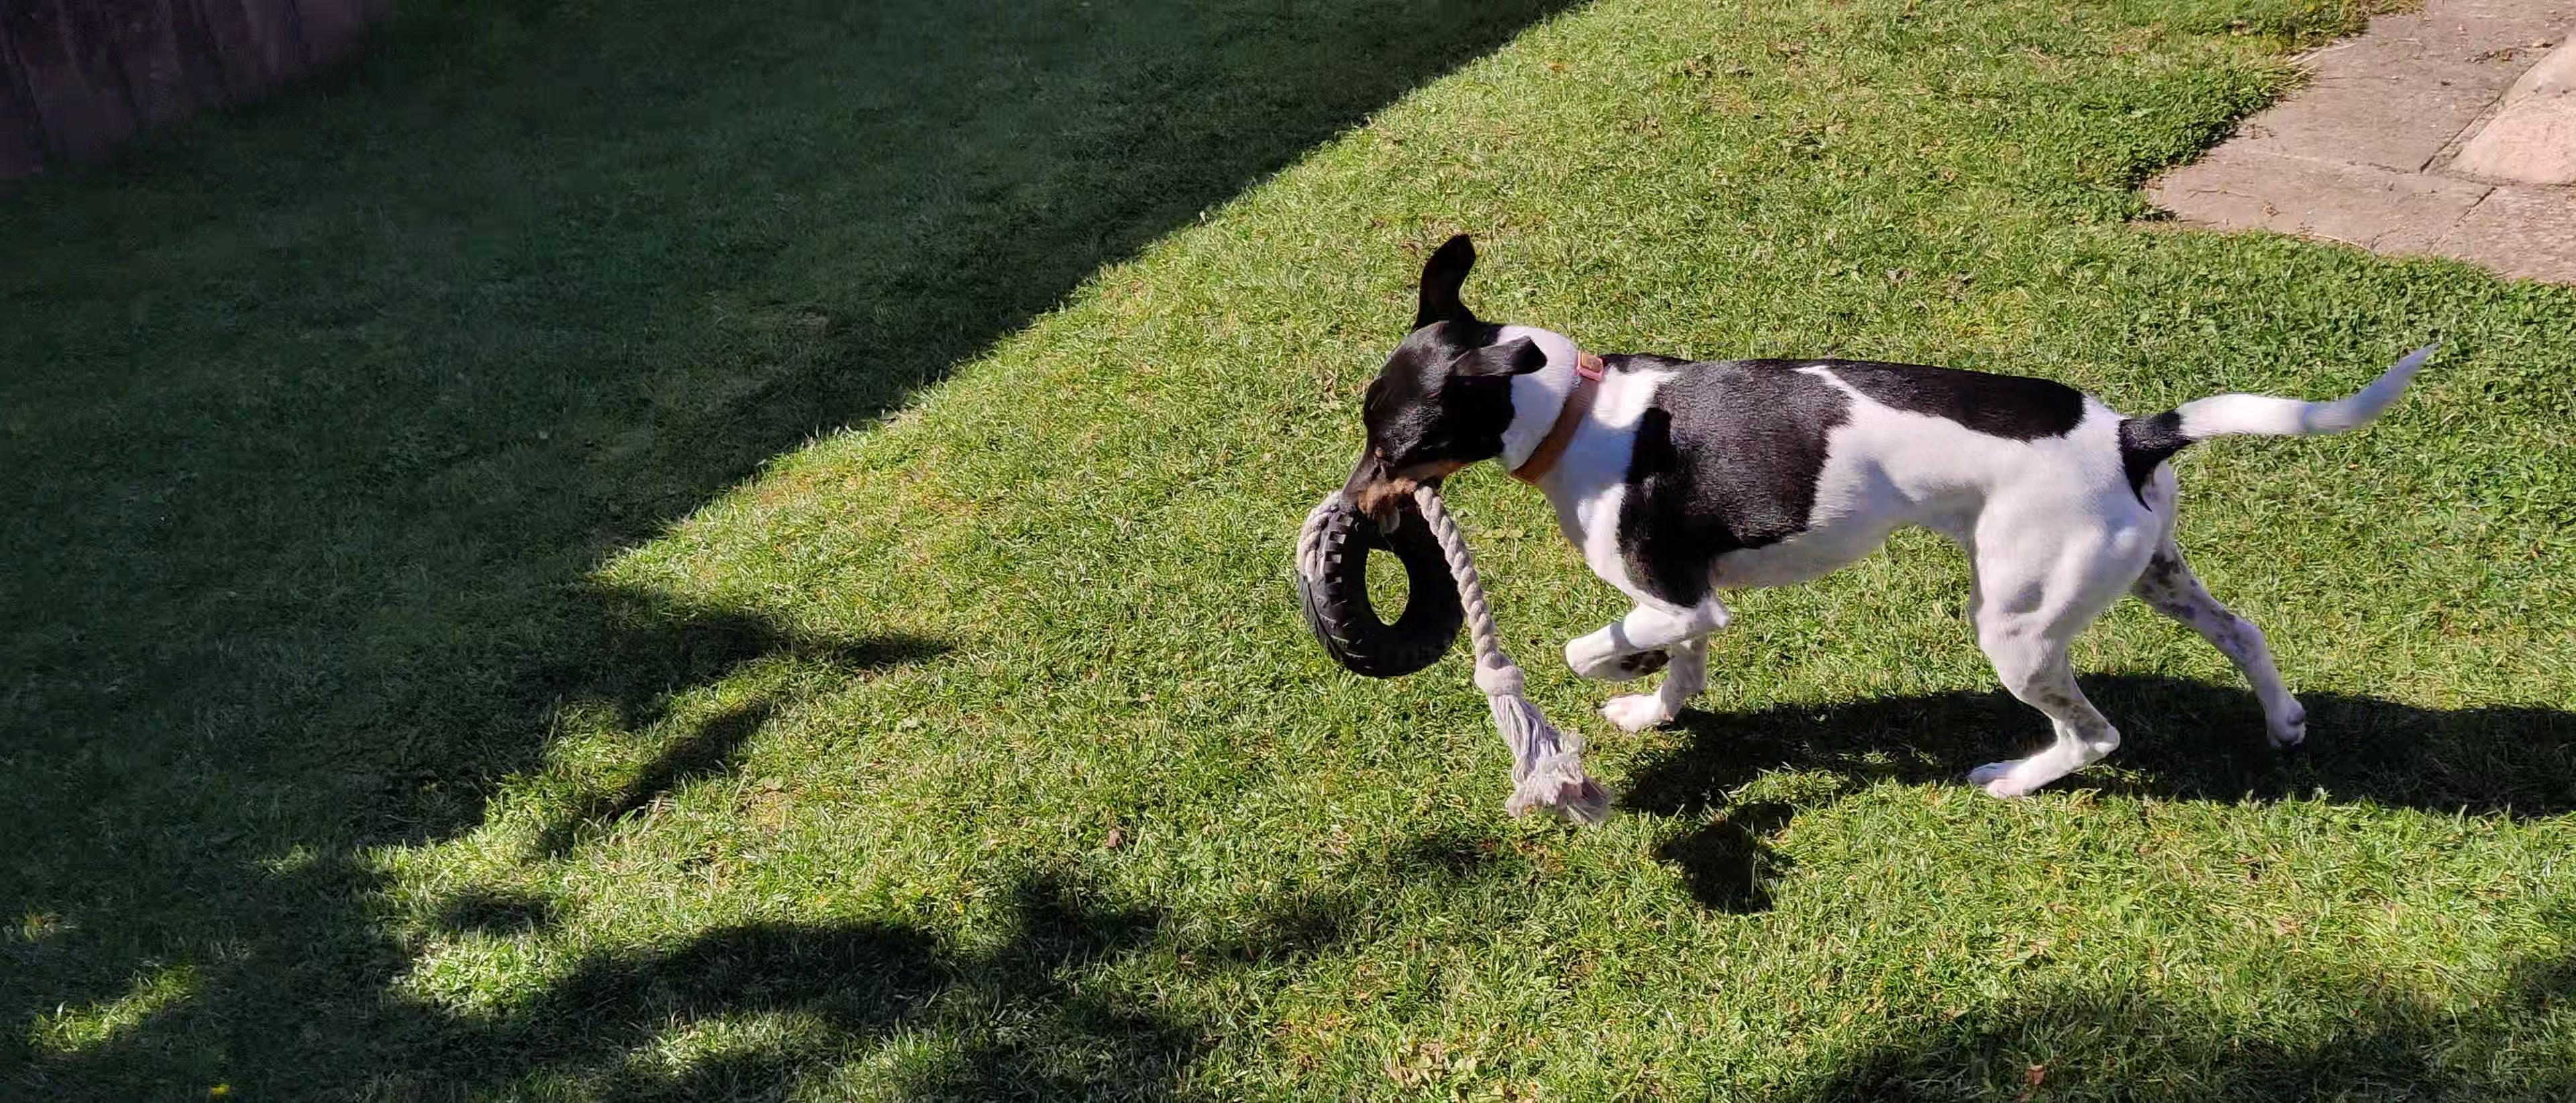Dog: (1331, 225, 2448, 807)
